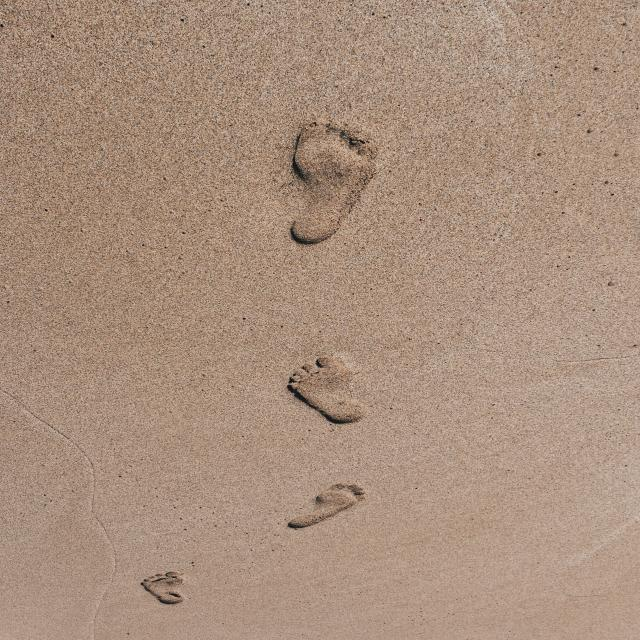human_footprint: (80, 59, 473, 640)
